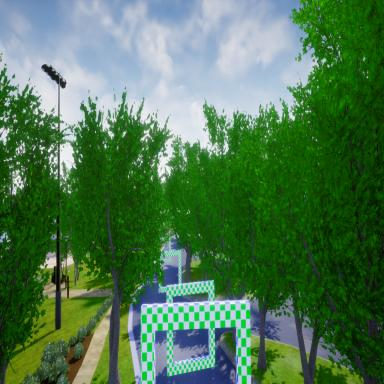gate: (166, 277, 216, 382)
